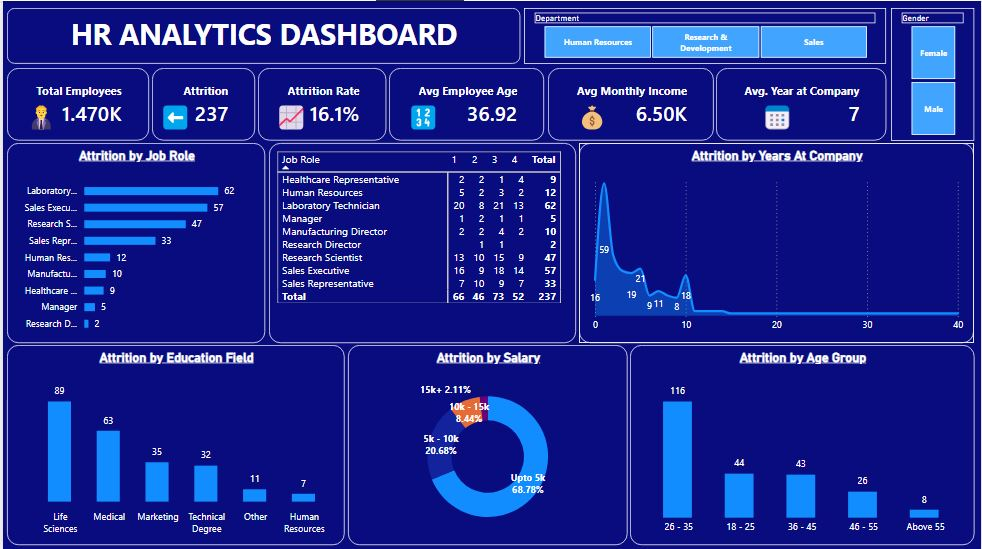

This screenshot's page, from the dashboard's own definition file:
{"tool":"powerbi","page":{"name":"Executive Overview","canvas":[1280,720],"ordinal":0},"visuals":[{"type":"textbox","box":[5.8,8.6,672.5,73.4],"z":0},{"type":"cardVisual","fields":{"Data":["HR Measure.Total Employees"]},"box":[5.8,87.8,185.8,95],"z":1000},{"type":"cardVisual","fields":{"Data":["HR Measure.Employees Who Left"]},"box":[194.4,87.8,135.4,95],"z":2000},{"type":"cardVisual","fields":{"Data":["HR Measure.Attrition Rate"]},"box":[334.1,87.8,168.5,95],"z":3000},{"type":"cardVisual","fields":{"Data":["HR Measure.Average Employee Age"]},"box":[505.4,87.8,203,95],"z":4000},{"type":"cardVisual","fields":{"Data":["HR Measure.Average Monthly Income"]},"box":[712.8,87.8,217.4,95],"z":5000},{"type":"cardVisual","fields":{"Data":["HR Measure.Avg. Year at Company"]},"box":[933.1,87.8,223.2,95],"z":6000},{"type":"clusteredColumnChart","fields":{"Category":["HR Data.Education Field"],"Y":["HR Measure.Attrition"]},"box":[5.8,450.7,442.1,262.1],"z":7000},{"type":"donutChart","fields":{"Category":["HR Data.Salary"],"Y":["HR Measure.Attrition"]},"box":[452.2,450.7,365.8,262.1],"z":8000},{"type":"clusteredColumnChart","fields":{"Y":["HR Measure.Attrition"],"Category":["HR Data.Age Group"]},"box":[820.8,450.7,450.7,262.1],"z":9000},{"type":"stackedAreaChart","fields":{"Category":["HR Data.Years At Company"],"Y":["HR Measure.Attrition"]},"box":[754.6,185.8,517,262.1],"z":10000},{"type":"clusteredBarChart","fields":{"Category":["HR Data.Job Role"],"Y":["HR Measure.Attrition"]},"box":[5.8,185.8,338.4,262.1],"z":11000},{"type":"pivotTable","fields":{"Rows":["HR Data.Job Role"],"Columns":["HR Data.Job Satisfaction"],"Values":["HR Measure.Attrition"]},"box":[348.5,185.8,401.8,262.1],"z":12000},{"type":"slicer","title":"Department","fields":{"Values":["HR Data.Department"]},"box":[682.6,8.6,473.8,73.4],"z":13000},{"type":"slicer","fields":{"Values":["HR Data.Gender"]},"box":[1162.1,8.6,109.4,174.2],"z":14000},{"type":"textbox","box":[15.8,122.4,69.1,56.2],"z":15000},{"type":"textbox","box":[191.5,122.4,69.1,56.2],"z":16000},{"type":"textbox","box":[342.7,122.4,69.1,56.2],"z":17000},{"type":"textbox","box":[515.5,122.4,69.1,56.2],"z":18000},{"type":"textbox","box":[737.3,122.4,69.1,56.2],"z":19000},{"type":"textbox","box":[979.2,122.4,69.1,56.2],"z":20000}]}

Visuals, with their boxes in screenshot pixels (x1, y1, x2, y2), scaled from the page's 1280x720 canvas onto the 982x549 screenshot:
textbox: (4, 7, 520, 63)
cardVisual - HR Measure.Total Employees: (4, 67, 147, 139)
cardVisual - HR Measure.Employees Who Left: (149, 67, 253, 139)
cardVisual - HR Measure.Attrition Rate: (256, 67, 386, 139)
cardVisual - HR Measure.Average Employee Age: (388, 67, 543, 139)
cardVisual - HR Measure.Average Monthly Income: (547, 67, 714, 139)
cardVisual - HR Measure.Avg. Year at Company: (716, 67, 887, 139)
clusteredColumnChart - HR Data.Education Field x HR Measure.Attrition: (4, 344, 344, 544)
donutChart - HR Data.Salary x HR Measure.Attrition: (347, 344, 628, 544)
clusteredColumnChart - HR Measure.Attrition x HR Data.Age Group: (630, 344, 975, 544)
stackedAreaChart - HR Data.Years At Company x HR Measure.Attrition: (579, 142, 976, 342)
clusteredBarChart - HR Data.Job Role x HR Measure.Attrition: (4, 142, 264, 342)
pivotTable - HR Data.Job Role x HR Data.Job Satisfaction: (267, 142, 576, 342)
"Department" slicer: (524, 7, 887, 63)
slicer - HR Data.Gender: (892, 7, 975, 139)
textbox: (12, 93, 65, 136)
textbox: (147, 93, 200, 136)
textbox: (263, 93, 316, 136)
textbox: (395, 93, 448, 136)
textbox: (566, 93, 619, 136)
textbox: (751, 93, 804, 136)
